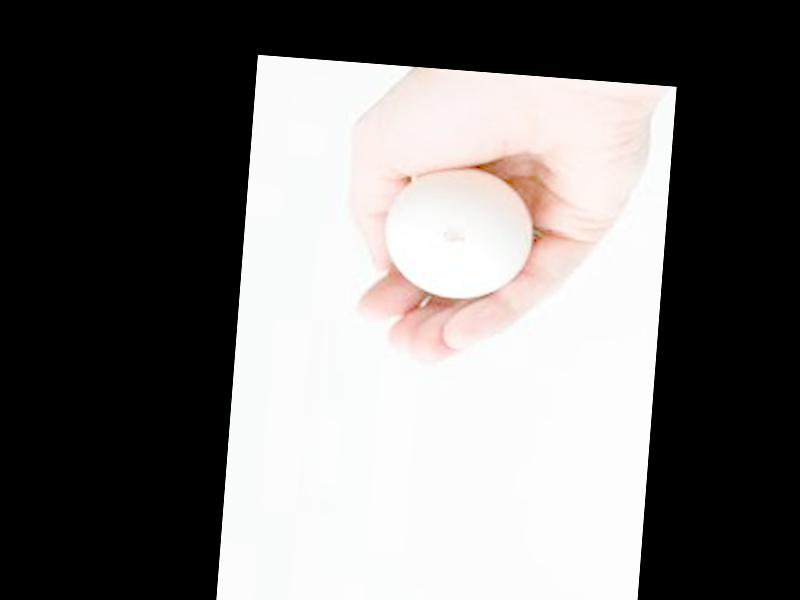Eggs: (385, 165, 534, 303)
